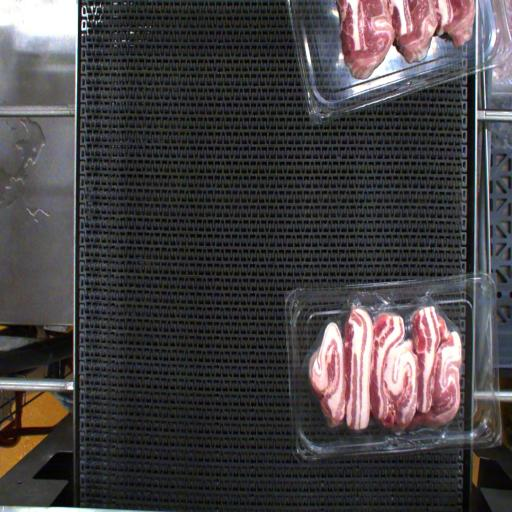unsealed: (306, 287, 472, 363)
